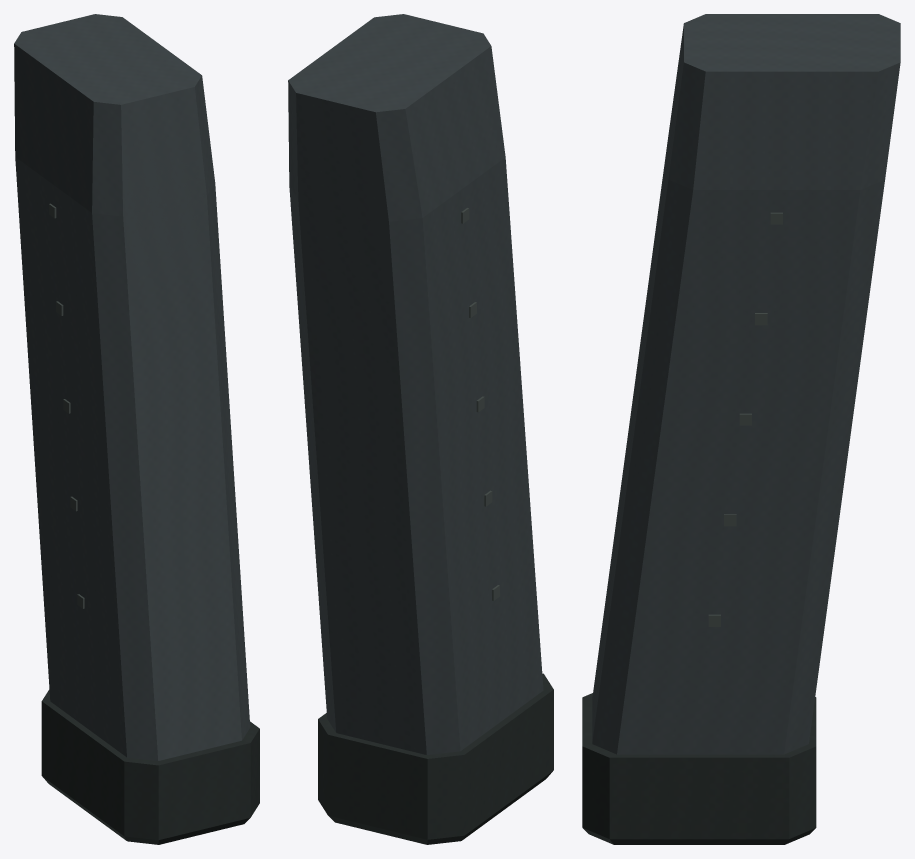
3 renders of one model, left to right at view 1: azimuth 30°, elevation 25°; view 2: azimuth 150°, elevation 25°; view 3: azimuth 270°, elevation 25°, orthographic. The views are drawn at different scales.
Parts seen in each view (by area): view 1: m17_21_individual_shell, m17_21_individual_shell.001, m17_21_floorplate, m17_21_witness_inset; view 2: m17_21_individual_shell, m17_21_individual_shell.001, m17_21_floorplate, m17_21_witness_inset; view 3: m17_21_individual_shell, m17_21_individual_shell.001, m17_21_floorplate, m17_21_witness_inset.
Boxes of the visible parts, left/top/right/bottom form: m17_21_individual_shell: left=14, top=14, right=250, bottom=760; m17_21_individual_shell.001: left=22, top=87, right=250, bottom=760; m17_21_floorplate: left=41, top=689, right=259, bottom=844; m17_21_witness_inset: left=49, top=203, right=84, bottom=608; m17_21_individual_shell: left=288, top=14, right=543, bottom=754; m17_21_individual_shell.001: left=296, top=93, right=543, bottom=754; m17_21_floorplate: left=318, top=673, right=553, bottom=844; m17_21_witness_inset: left=461, top=208, right=499, bottom=600; m17_21_individual_shell: left=592, top=14, right=900, bottom=754; m17_21_individual_shell.001: left=592, top=26, right=868, bottom=754; m17_21_floorplate: left=582, top=693, right=816, bottom=844; m17_21_witness_inset: left=708, top=212, right=782, bottom=626.
Bounding box in the file's own units: 0.055 × 0.274 × 0.1028.
Materials: 3 (2 with a texture image).
